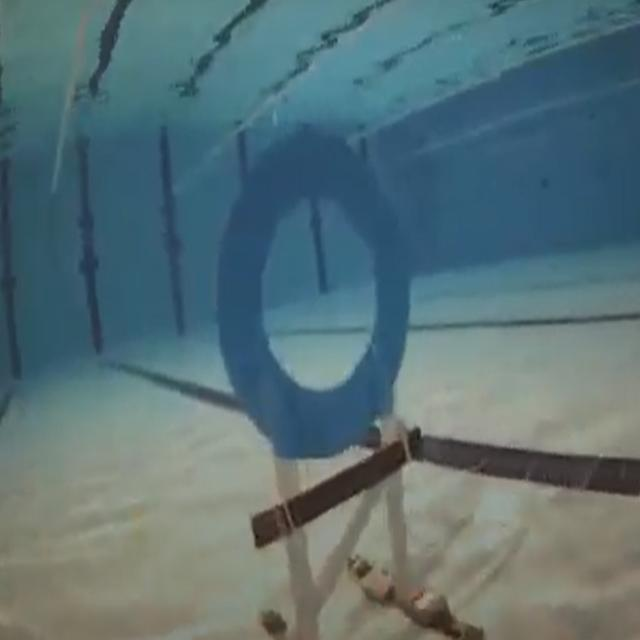Circle: (214, 116, 410, 466)
